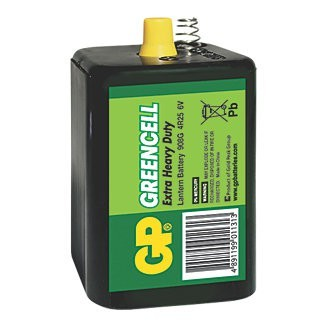6V: (60, 14, 263, 310)
